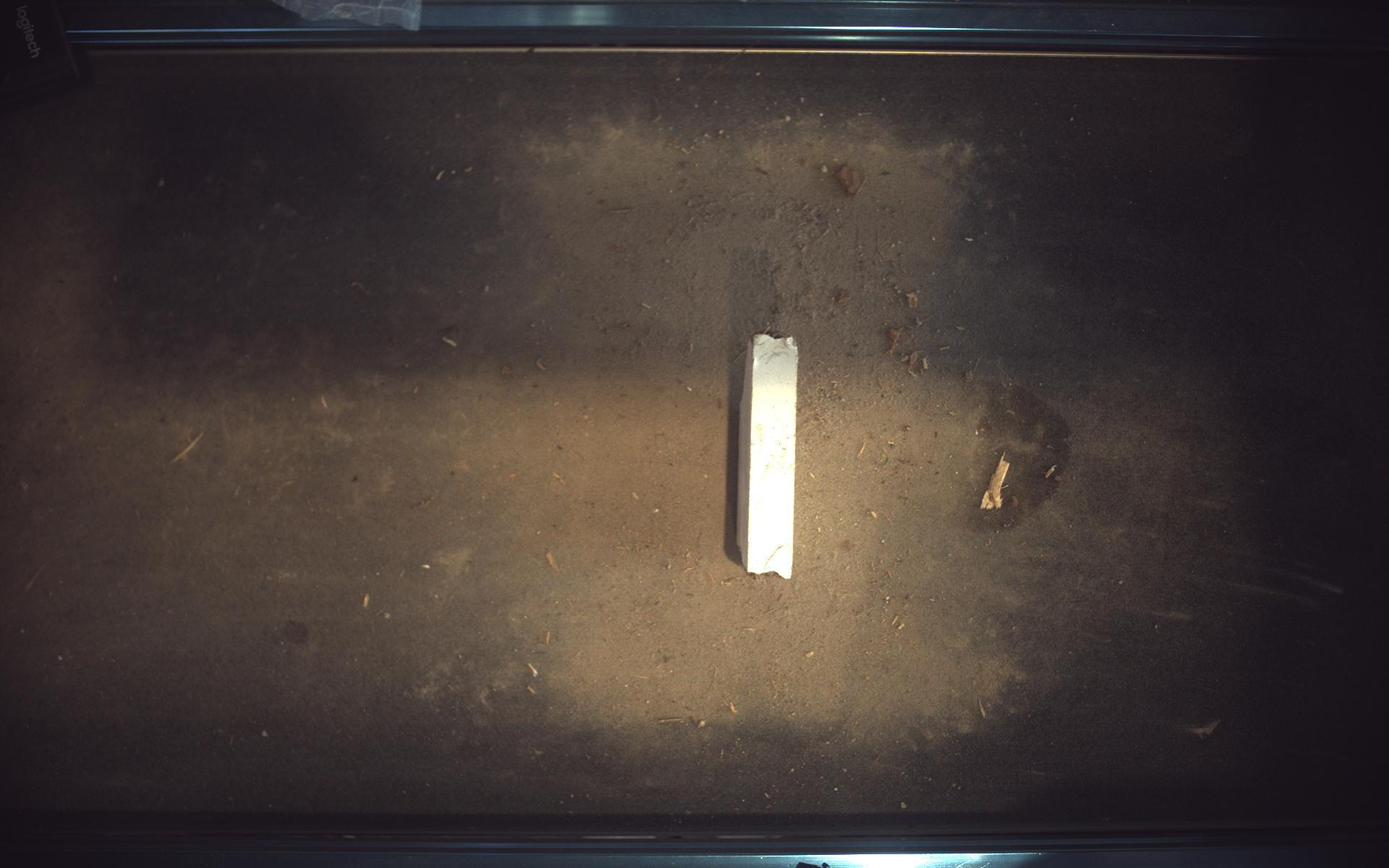wood: (738, 333, 799, 579)
